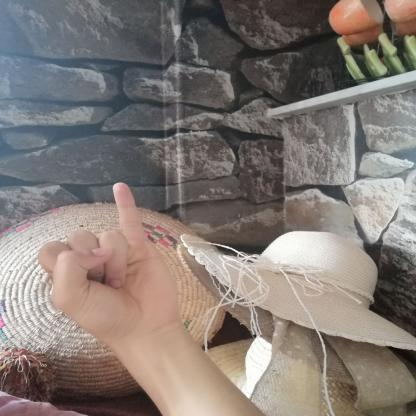MEEM: (27, 176, 189, 348)
